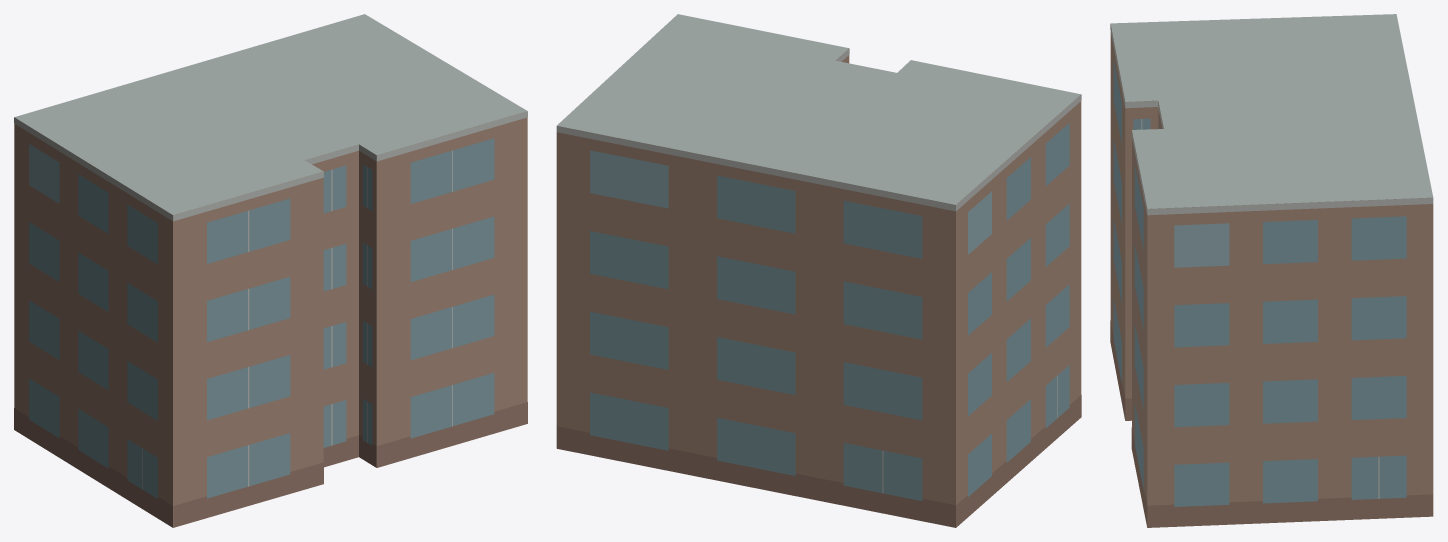
File: survey-upis-32731934.glb
3 views of the same model, side by side, from view 1: azimuth 30°, elevation 25°; view 2: azimuth 150°, elevation 25°; view 3: azimuth 270°, elevation 25° (orthographic). The views are drawn at different scales.
Parts seen in each view (by area): view 1: survey-upis-32731934.tmp; view 2: survey-upis-32731934.tmp; view 3: survey-upis-32731934.tmp.
Part boxes in pixels (x1,y1,x2,y2): survey-upis-32731934.tmp: (14, 14, 527, 527); survey-upis-32731934.tmp: (556, 14, 1081, 527); survey-upis-32731934.tmp: (1110, 14, 1433, 527).
Size of the model in its own units: 15.99 by 12.2 by 11.2.
